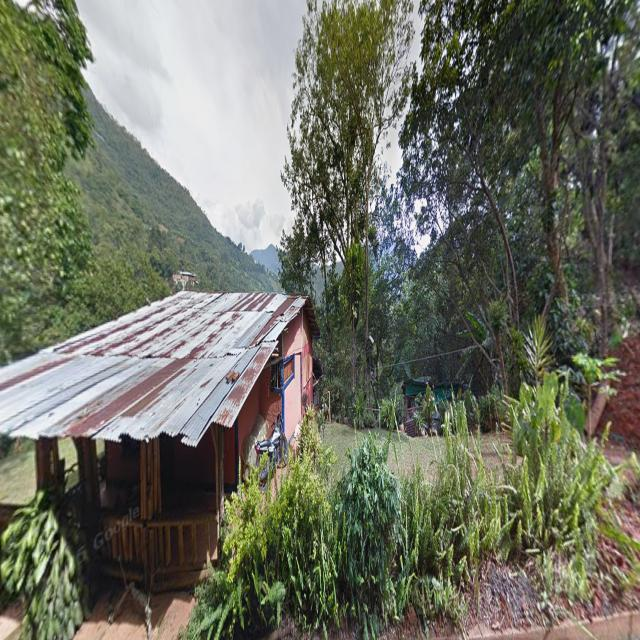Fachada: (0, 291, 319, 587)
